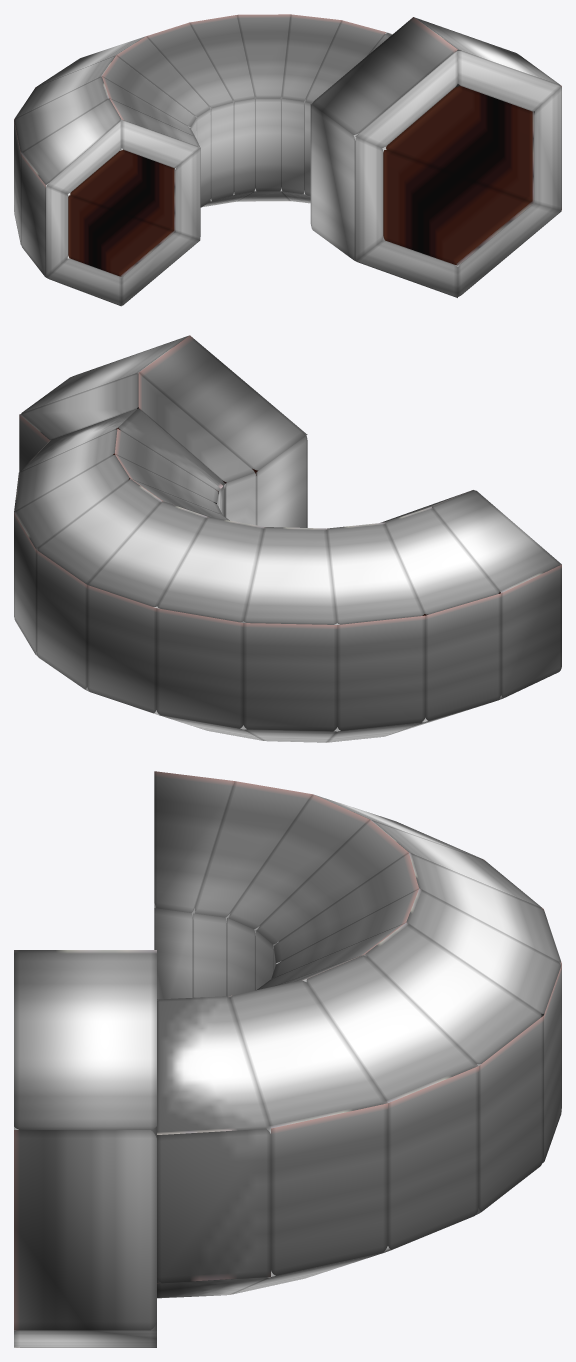
3 views of the same model, one above another, from view 1: azimuth 30°, elevation 25°; view 2: azimuth 150°, elevation 25°; view 3: azimuth 270°, elevation 25° (orthographic). The views are drawn at different scales.
Visible parts, largest first — view 1: T1L5M005_4; view 2: T1L5M005_4; view 3: T1L5M005_4.
Boxes of the visible parts, x1,y1,x2,y2 form: T1L5M005_4: (14, 14, 561, 306); T1L5M005_4: (14, 335, 561, 742); T1L5M005_4: (14, 771, 561, 1347).
Size of the model in its own units: 0.3281 by 0.165 by 0.2061.
